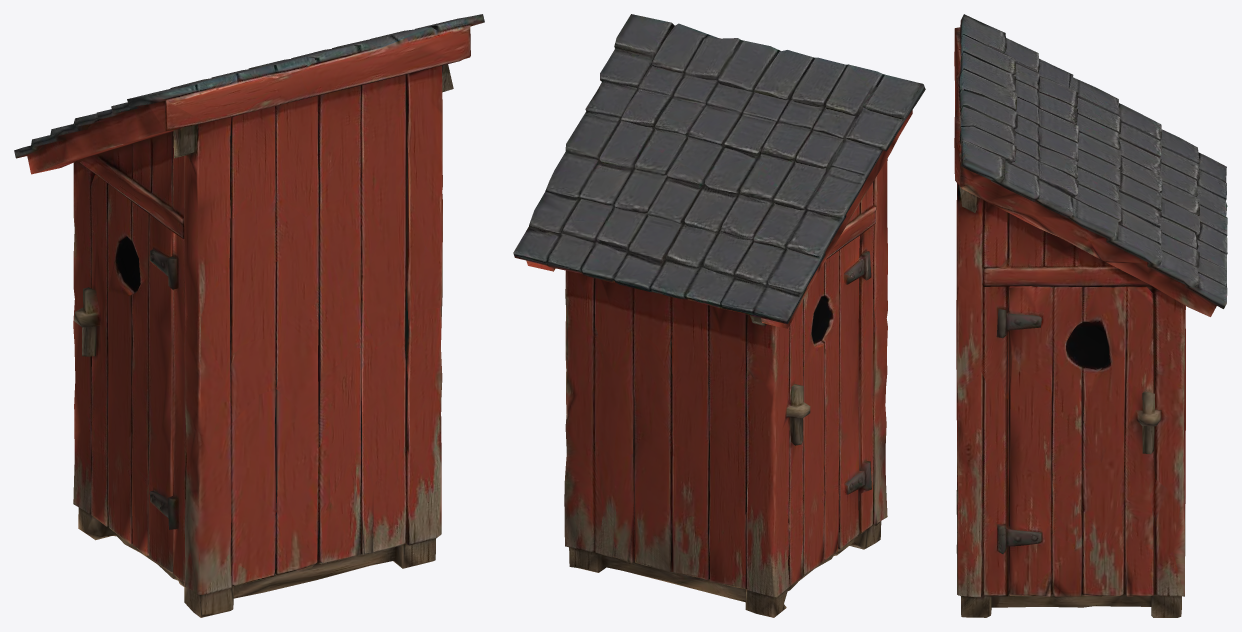
Rendered from outhouse.glb.
3 renders of one model, left to right at view 1: azimuth 30°, elevation 25°; view 2: azimuth 150°, elevation 25°; view 3: azimuth 270°, elevation 25°, orthographic. The views are drawn at different scales.
Parts seen in each view (by area): view 1: tripo_node_75ccc95c-d3ef-419d-8a68-9d052ed0c20f; view 2: tripo_node_75ccc95c-d3ef-419d-8a68-9d052ed0c20f; view 3: tripo_node_75ccc95c-d3ef-419d-8a68-9d052ed0c20f.
Boxes of the visible parts, bbox=[...] form: tripo_node_75ccc95c-d3ef-419d-8a68-9d052ed0c20f: bbox=[14, 14, 484, 617]; tripo_node_75ccc95c-d3ef-419d-8a68-9d052ed0c20f: bbox=[513, 14, 925, 617]; tripo_node_75ccc95c-d3ef-419d-8a68-9d052ed0c20f: bbox=[954, 14, 1227, 617].
Bounding box in the file's own units: 0.654 × 1 × 0.5151.
Materials: 1 (1 with a texture image).
